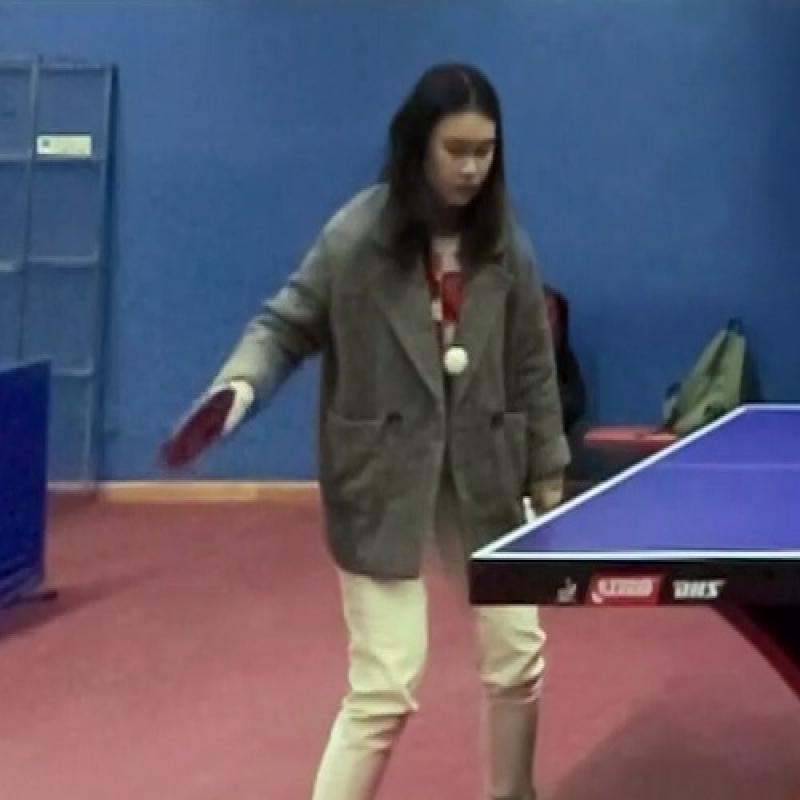bats: (158, 381, 262, 479)
